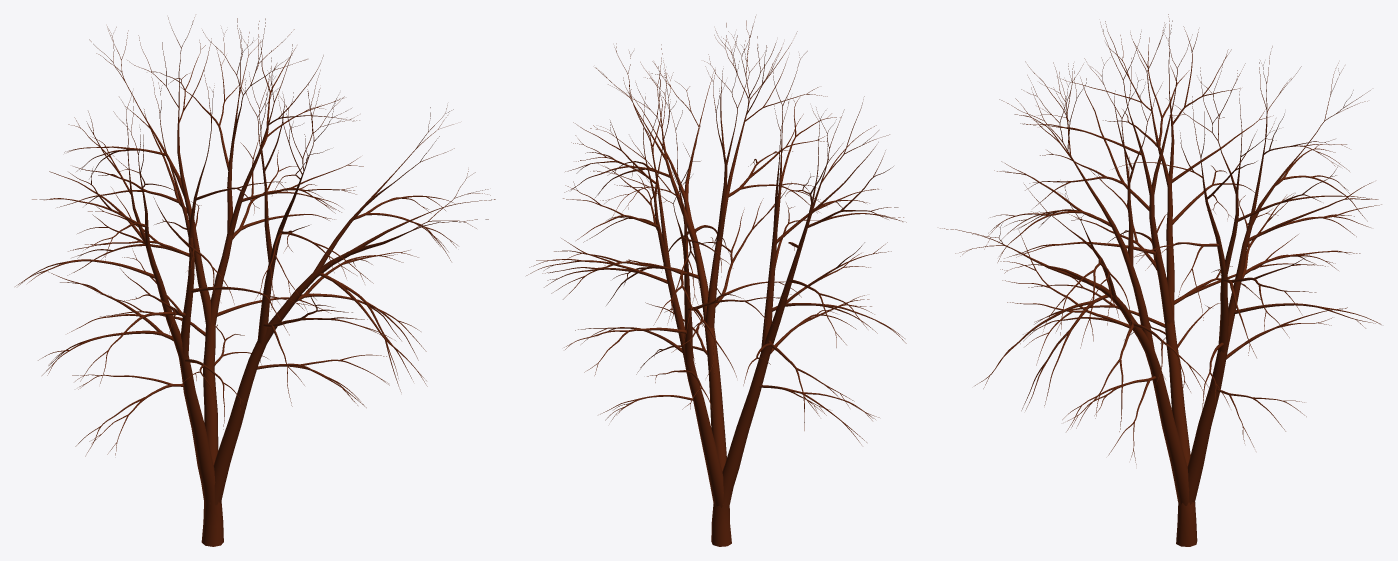
File: tree.fbx
3 renders of one model, left to right at view 1: azimuth 30°, elevation 25°; view 2: azimuth 150°, elevation 25°; view 3: azimuth 270°, elevation 25°, orthographic. The views are drawn at different scales.
Parts seen in each view (by area): view 1: tree; view 2: tree; view 3: tree.
Part boxes in pixels (box(x1,y1,x2,y2)): tree: box(15, 17, 495, 546); tree: box(526, 16, 906, 546); tree: box(940, 14, 1381, 546).
Size of the model in its own units: 1271 by 1616 by 1295.
